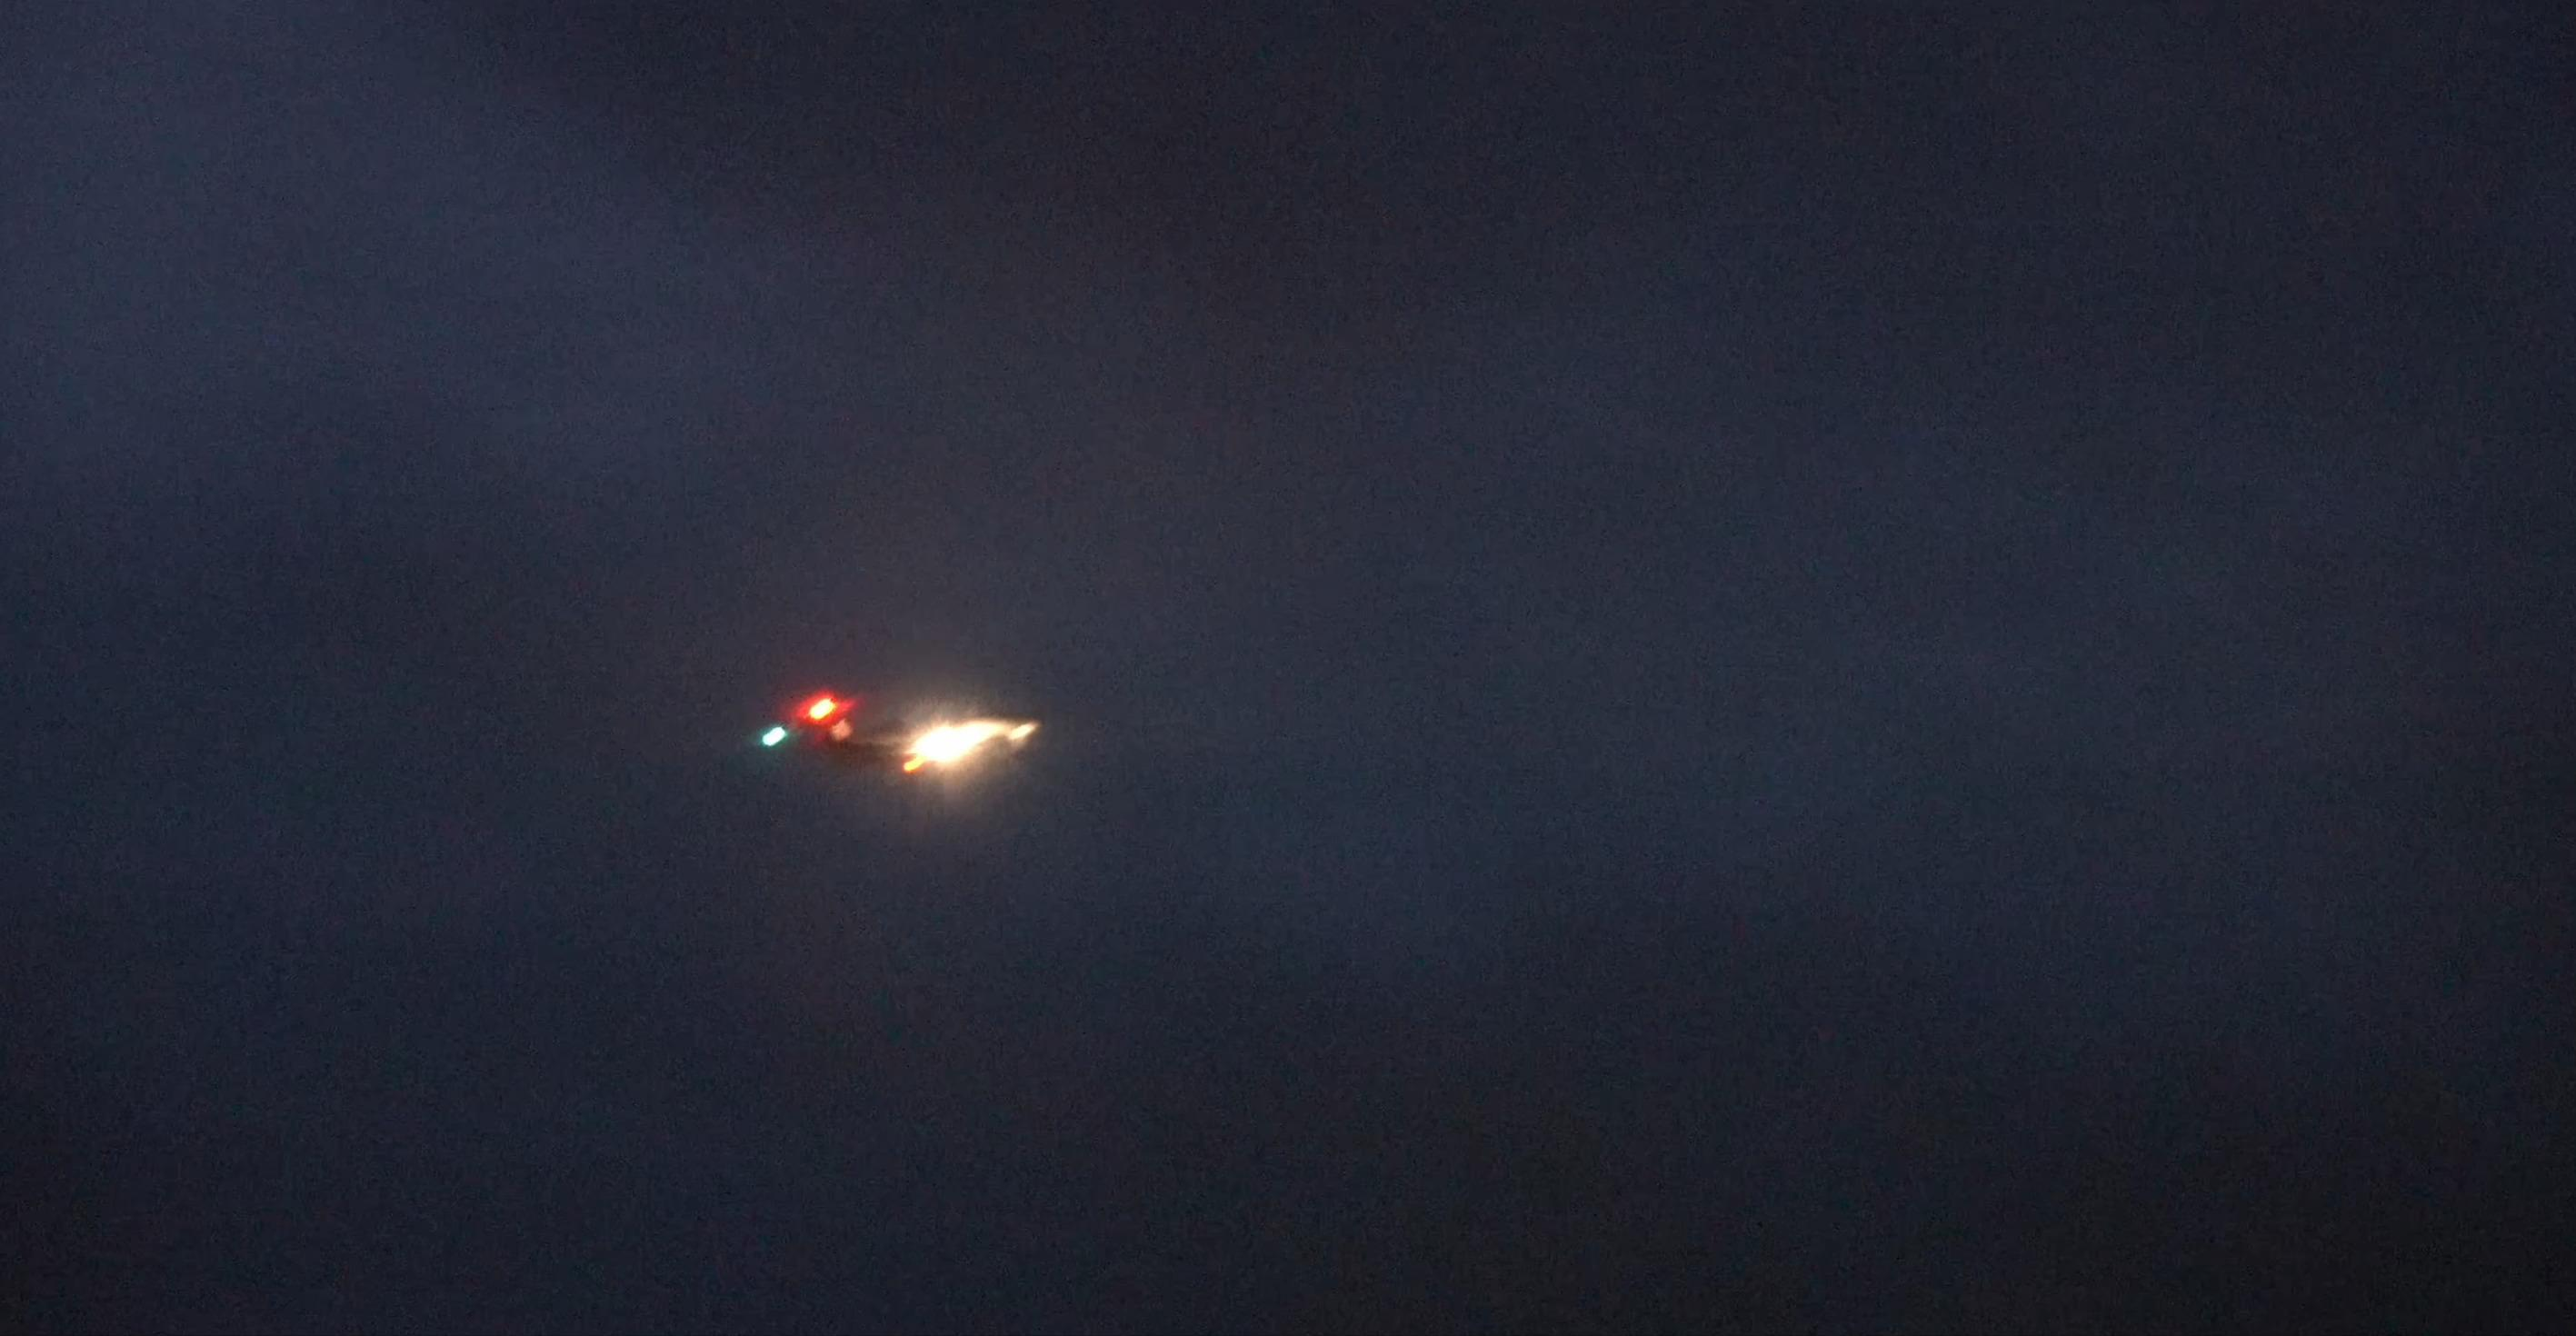Plane: (629, 617, 1194, 869)
